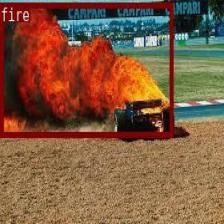fire: (0, 2, 172, 136)
